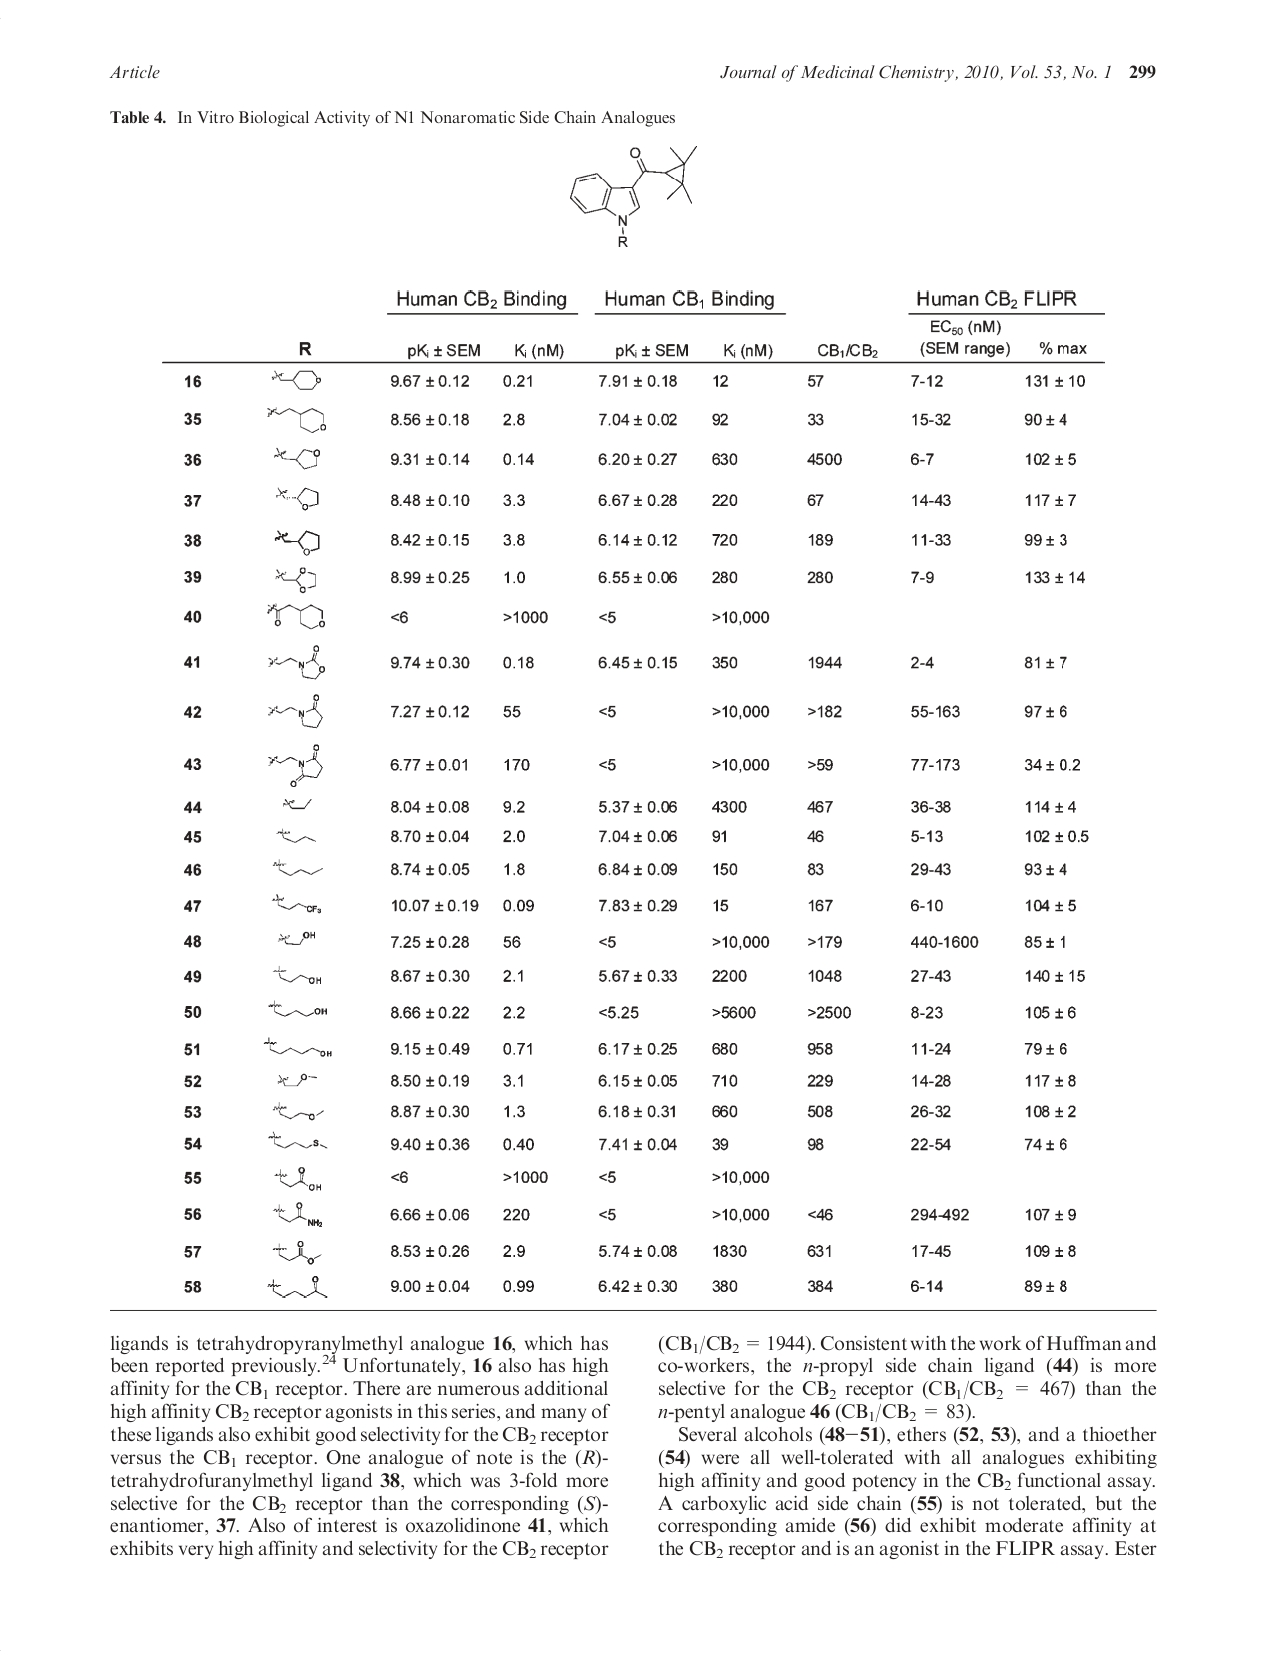exist_molecular: (569, 144, 699, 249), (269, 743, 323, 789), (269, 644, 326, 681), (266, 692, 323, 727), (266, 601, 326, 630), (265, 406, 326, 434), (262, 1036, 332, 1059), (266, 1275, 328, 1301), (273, 529, 322, 557), (273, 1165, 323, 1192), (273, 1239, 323, 1266), (273, 1202, 323, 1227), (274, 485, 320, 512), (267, 1130, 328, 1150), (269, 997, 328, 1017), (274, 567, 316, 594), (271, 446, 320, 469), (270, 368, 322, 391), (270, 892, 323, 914), (273, 1100, 324, 1121), (273, 964, 323, 985), (273, 858, 324, 876), (275, 827, 316, 844), (277, 930, 316, 946), (277, 1072, 318, 1087), (281, 797, 313, 811)
